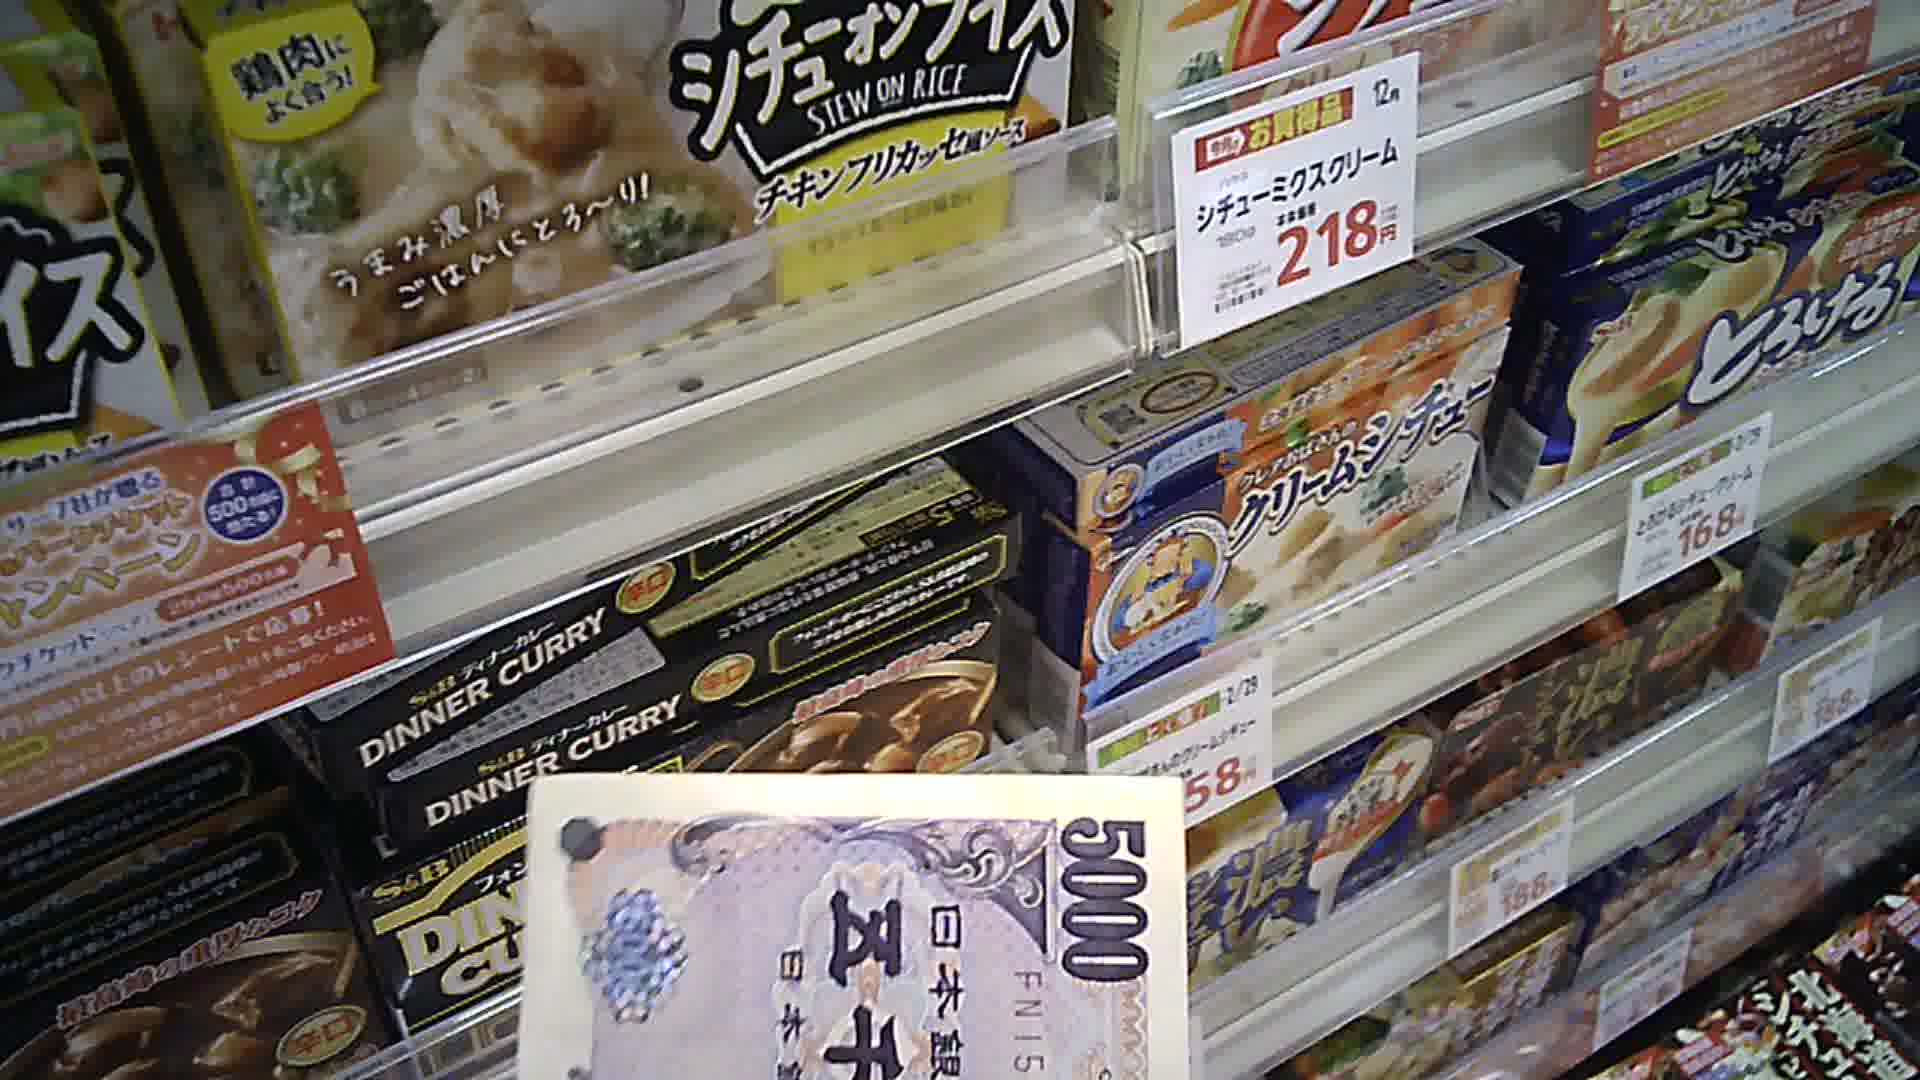5,000 Yen: (513, 761, 1195, 1079)
